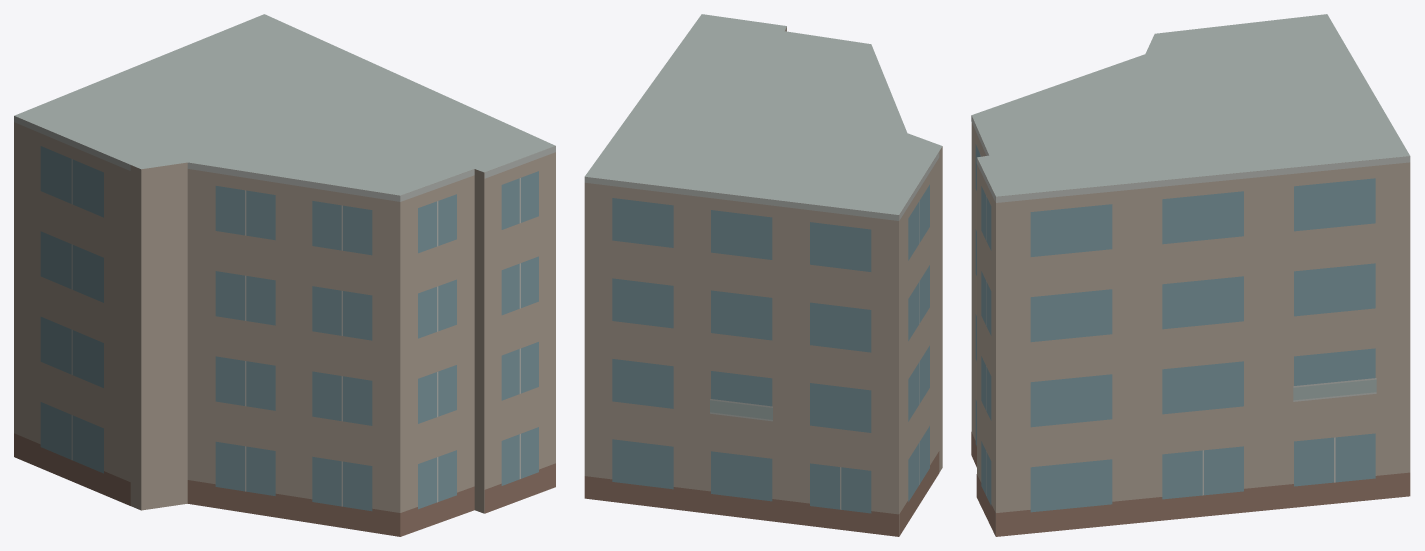
Rendered from survey-upis-32486896.glb.
The picture shows the model from 3 angles, left to right: view 1: azimuth 30°, elevation 25°; view 2: azimuth 150°, elevation 25°; view 3: azimuth 270°, elevation 25°; orthographic projection. The views are drawn at different scales.
Parts seen in each view (by area): view 1: survey-upis-32486896.tmp; view 2: survey-upis-32486896.tmp; view 3: survey-upis-32486896.tmp.
Part boxes in pixels (box(x1,y1,x2,y2)): survey-upis-32486896.tmp: box(14, 14, 555, 536); survey-upis-32486896.tmp: box(584, 14, 942, 536); survey-upis-32486896.tmp: box(971, 14, 1410, 536).
Size of the model in its own units: 15.1 by 13.1 by 15.32.
